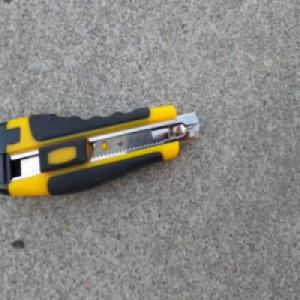Cutter: (0, 101, 200, 200)
